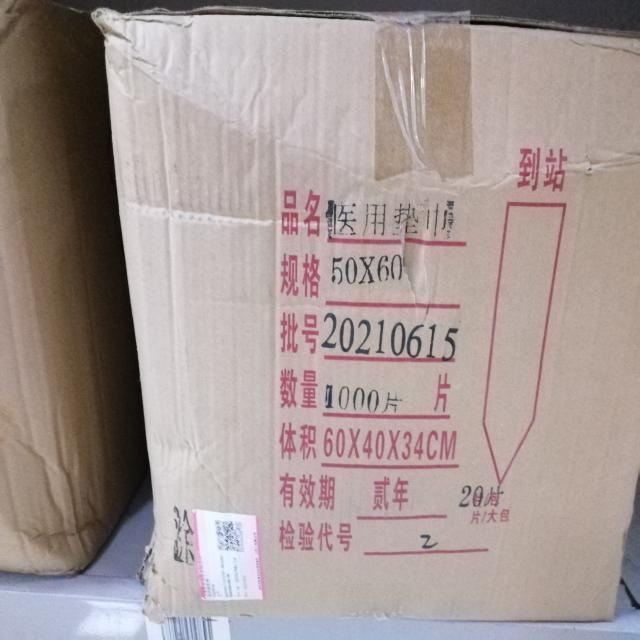box: (108, 14, 639, 626), (0, 0, 153, 578)
